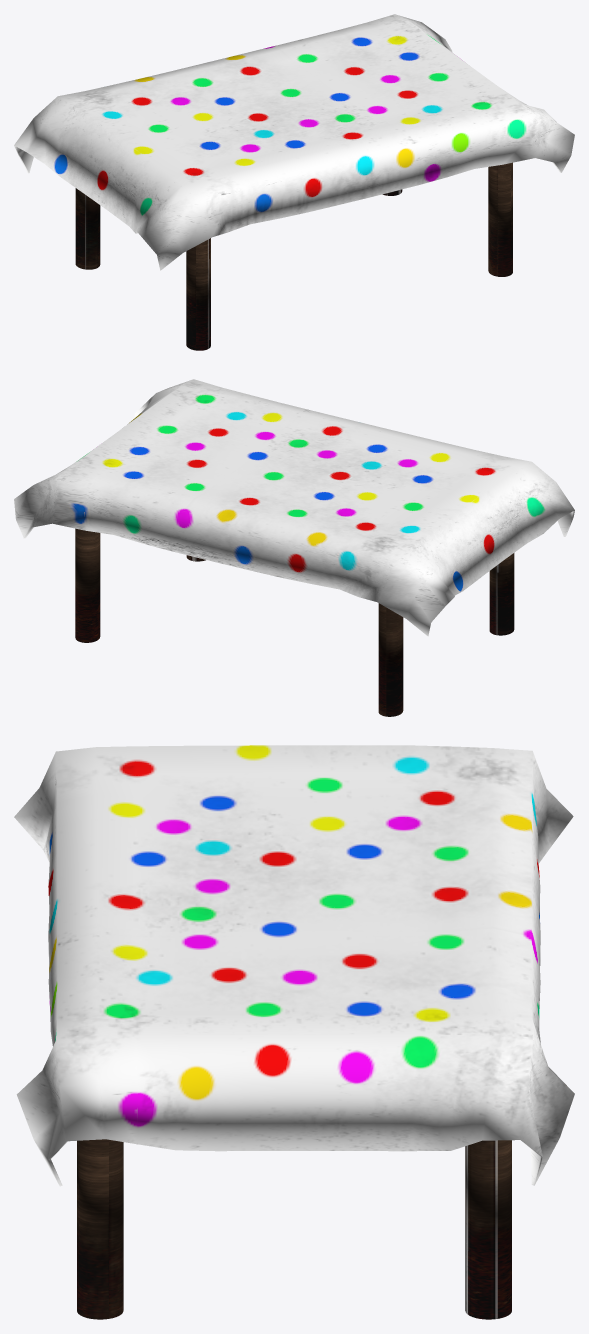
The model's file is fnaf_party_tables_v2.glb.
3 views of the same model, one above another, from view 1: azimuth 30°, elevation 25°; view 2: azimuth 150°, elevation 25°; view 3: azimuth 270°, elevation 25° (orthographic). The views are drawn at different scales.
Visible parts, largest first — view 1: Plane; view 2: Plane; view 3: Plane.
Boxes of the visible parts, left/top/right/bottom form: Plane: left=14, top=14, right=574, bottom=350; Plane: left=14, top=379, right=574, bottom=716; Plane: left=14, top=745, right=574, bottom=1319.
Bounding box in the file's own units: 899 × 332 × 577.
2 materials, 2 textured.
